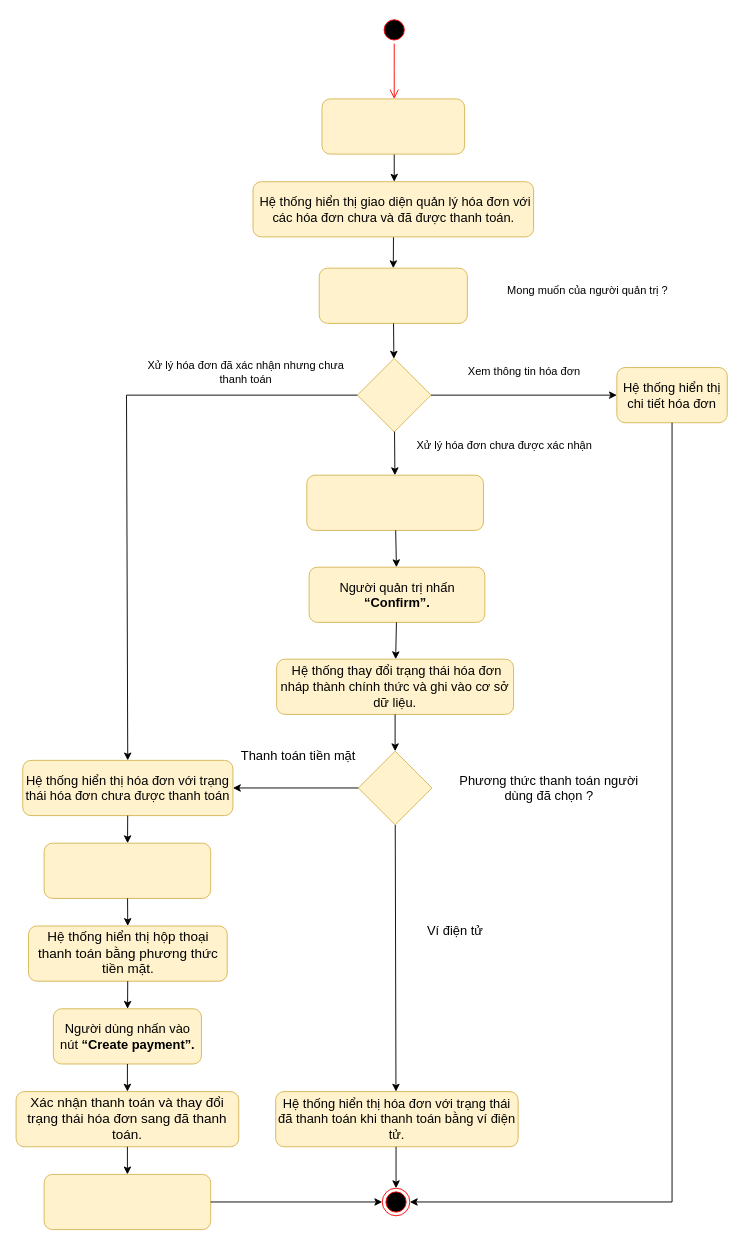
This 743x1246 diagram has some shape labels left out. The centre of each missing label's shape, as x and y in pixels:
"Hệ thống ghi vào cơ sở dữ liệu." goes at (x=127, y=1201).
"Hệ thống hiển thị hóa đơn bản nháp" goes at (x=394, y=502).
"Người quản trị chọn hóa đơn muốn xem." goes at (x=392, y=295).
"Người quản trị chọn mục “Xuất hóa đơn” ." goes at (x=393, y=126).
"Người quản trị nhấn vào nút “Register payment” ." goes at (x=127, y=870).
